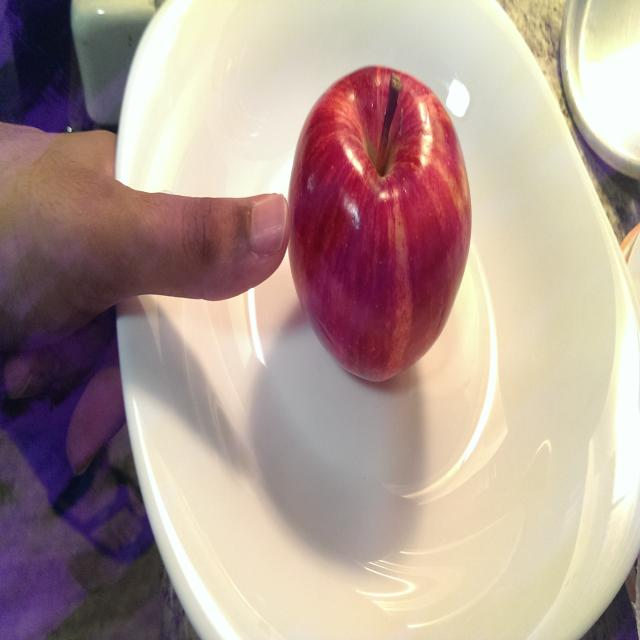apple: (286, 69, 518, 385)
